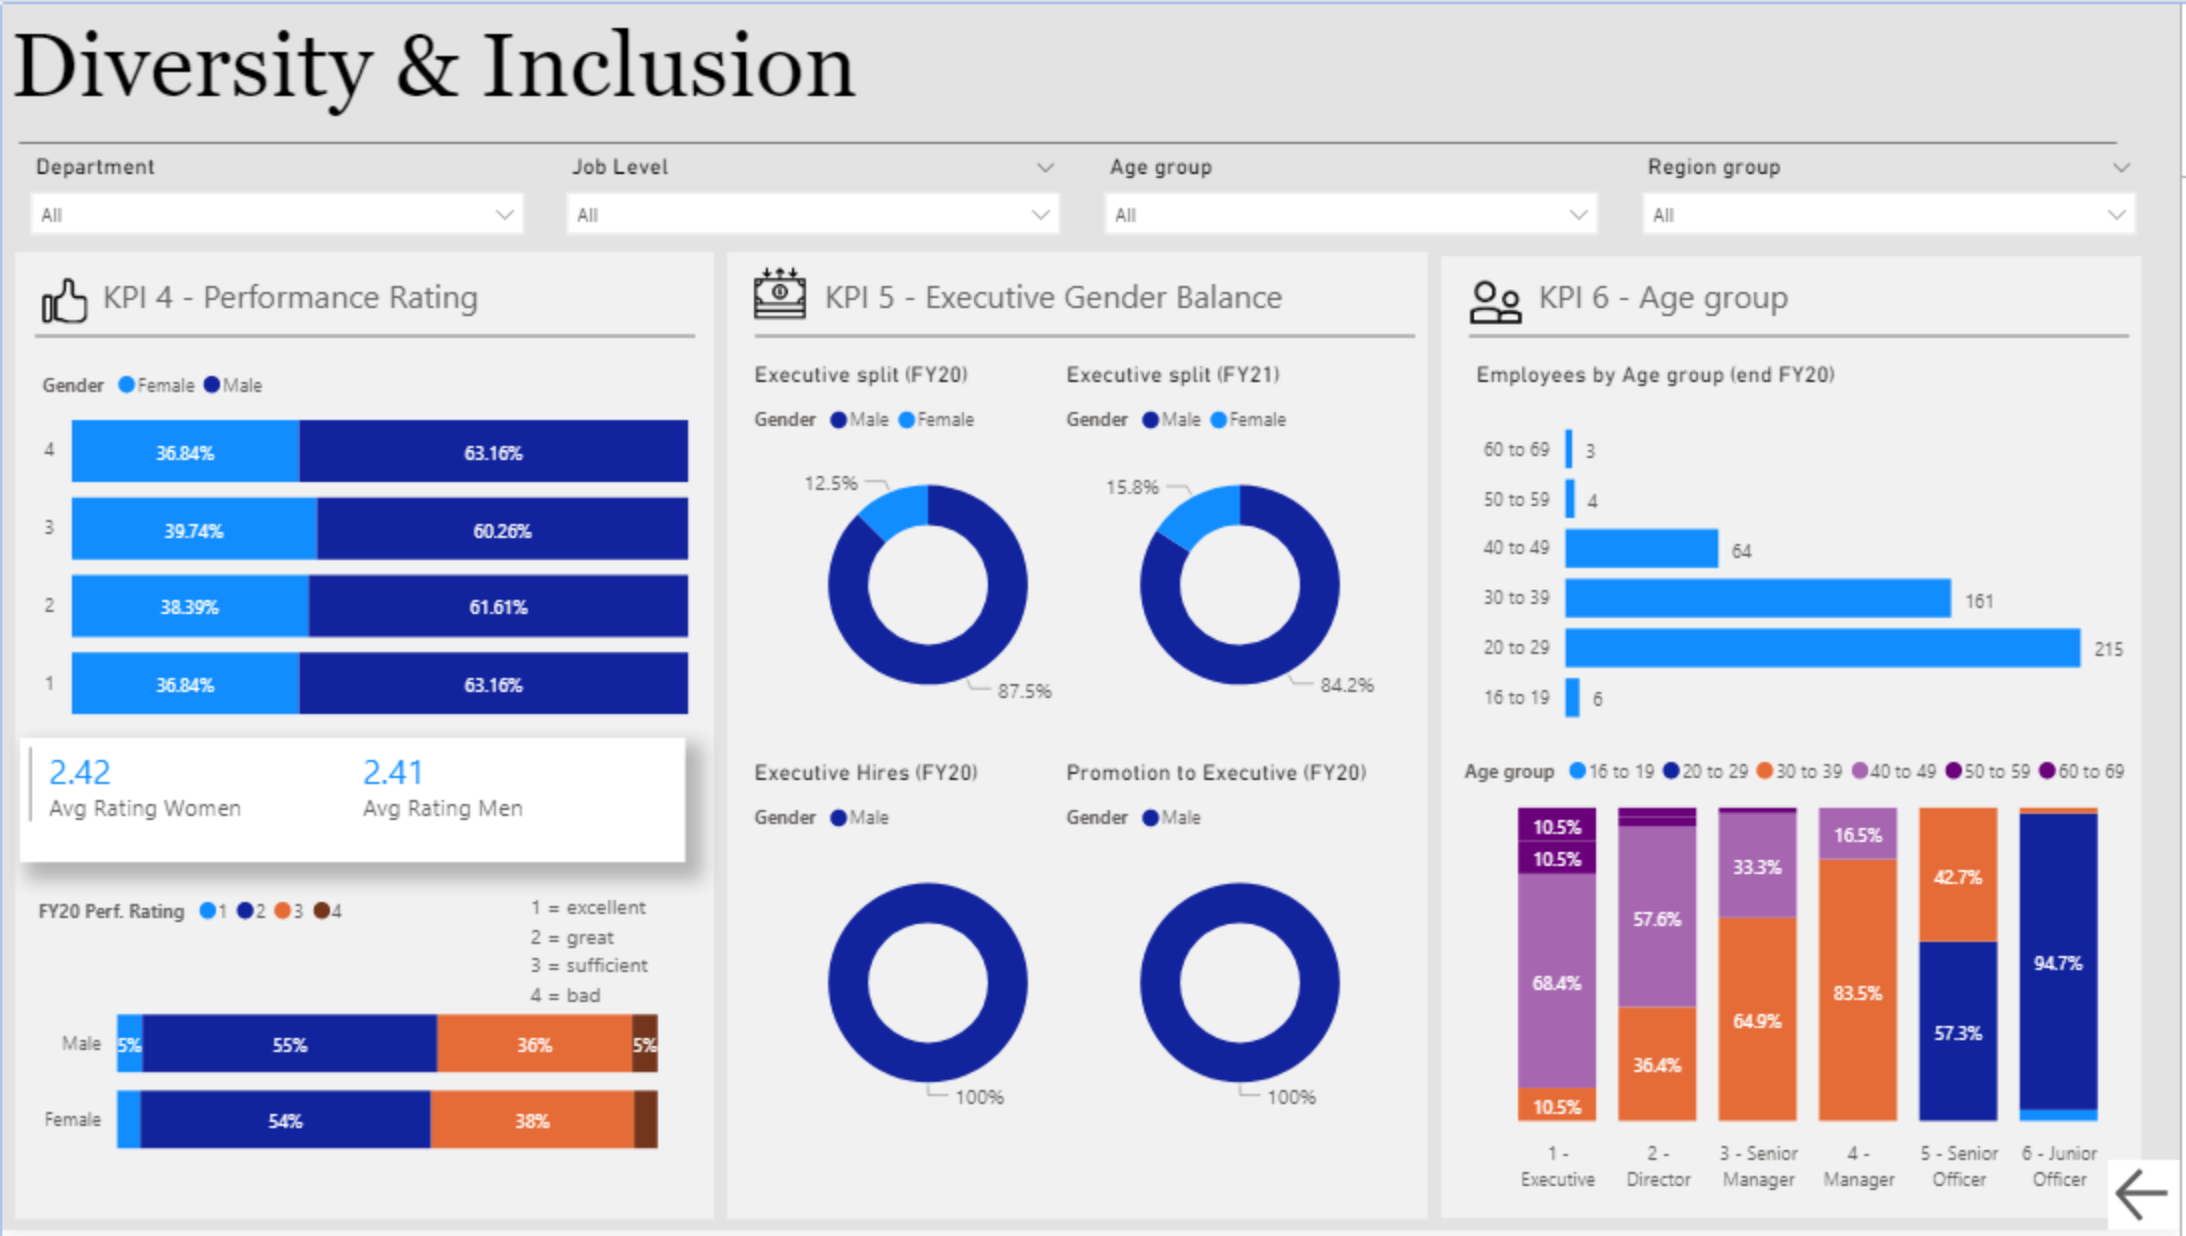

What the dashboard file says about the page in this screenshot:
{"tool":"powerbi","page":{"name":"HR Manager (2/2)","canvas":[1280,720],"ordinal":1},"visuals":[{"type":"basicShape","box":[3.9,139.9,418.6,579.7],"z":0},{"type":"slicer","fields":{"Values":["HR Manager.Job Level after FY20 promotions"]},"box":[322.5,83.9,310,55.9],"z":1000},{"type":"slicer","fields":{"Values":["HR Manager.Age group"]},"box":[638.2,83.9,310,55.9],"z":2000},{"type":"textbox","box":[0,0,1141,80.1],"z":3000},{"type":"basicShape","box":[0,60.8,1253,40.5],"z":4000},{"type":"basicShape","box":[422.2,139.6,420,579.7],"z":5000},{"type":"basicShape","box":[9.5,174.9,408,39.5],"z":6000},{"type":"textbox","box":[54.6,154.4,315.4,35.7],"z":7000},{"type":"multiRowCard","fields":{"Values":["HR Manager.Avg Rating Women","HR Manager.Avg Rating Men"]},"box":[10.1,431.1,390.9,72.6],"z":8000},{"type":"hundredPercentStackedBarChart","fields":{"Series":["HR Manager.FY20 Performance Rating"],"Category":["HR Manager.Gender"],"Y":["CountNonNull(HR Manager.Employee ID)"]},"box":[16.8,513.8,374.2,205.5],"z":9000},{"type":"image","box":[854.5,413.3,6.7,35.7],"z":10000},{"type":"basicShape","box":[842.2,141.8,420,577.5],"z":13000},{"type":"image","box":[19,156.4,35.7,35.7],"z":14000},{"type":"slicer","fields":{"Values":["HR Manager.Last Department in FY20"]},"box":[6.8,83.9,310,55.9],"z":15000},{"type":"slicer","fields":{"Values":["HR Manager.Broad region group: nationality 1"]},"box":[954,83.9,310,55.9],"z":16000},{"type":"textbox","box":[477.9,154.4,315.4,35.7],"z":17000},{"type":"basicShape","box":[432.8,174.9,408,39.5],"z":18000},{"type":"textbox","box":[897.8,154.4,315.4,35.7],"z":19000},{"type":"basicShape","box":[852.7,174.9,408,39.5],"z":20000},{"type":"hundredPercentStackedBarChart","fields":{"Category":["HR Manager.FY20 Performance Rating"],"Series":["HR Manager.Gender"],"Y":["Count(HR Manager.Employee ID)"]},"box":[19,204.4,389.8,225.6],"z":21000},{"type":"textbox","box":[306,516,100.5,81.5],"z":22000},{"type":"donutChart","title":"Executive split (FY21)","fields":{"Category":["HR Manager.Gender"],"Y":["CountNonNull(HR Manager.Employee ID)"]},"box":[621.1,209.9,214.5,220],"z":23000},{"type":"donutChart","title":"Executive split (FY20)","fields":{"Category":["HR Manager.Gender"],"Y":["CountNonNull(HR Manager.Employee ID)"]},"box":[436.8,209.9,214.5,220],"z":24000},{"type":"donutChart","title":"Executive Hires (FY20)","fields":{"Category":["HR Manager.Gender"],"Y":["CountNonNull(HR Manager.Employee ID)"]},"box":[436.7,444.7,214.5,220],"z":25000},{"type":"donutChart","title":"Promotion to Executive (FY20)","fields":{"Category":["HR Manager.Gender"],"Y":["CountNonNull(HR Manager.Employee ID)"]},"box":[621,444.7,214.5,220],"z":26000},{"type":"image","box":[857.8,153,40.2,44.7],"z":27000},{"type":"clusteredBarChart","title":"Employees by Age group (end FY20)","fields":{"Category":["HR Manager.Age group"],"Y":["CountNonNull(HR Manager.Employee ID)"]},"box":[861.2,210,392,225.6],"z":28000},{"type":"hundredPercentStackedColumnChart","fields":{"Category":["HR Manager.Job Level after FY21 promotions"],"Series":["HR Manager.Age group"],"Y":["CountNonNull(HR Manager.Employee ID)"]},"box":[854.5,431.1,406.6,273.6],"z":29000},{"type":"image","box":[436.7,147.4,40.2,44.7],"z":30000},{"type":"actionButton","box":[1237.6,679.1,42.4,40.5],"z":31000}]}

Visuals, with their boxes in screenshot pixels (x1, y1, x2, y2), scaled from the page's 1280x720 canvas onto the 2186x1236 screenshot:
basicShape: <region>7, 240, 722, 1235</region>
slicer - HR Manager.Job Level after FY20 promotions: <region>551, 144, 1080, 240</region>
slicer - HR Manager.Age group: <region>1090, 144, 1619, 240</region>
textbox: <region>0, 0, 1949, 138</region>
basicShape: <region>0, 104, 2140, 174</region>
basicShape: <region>721, 240, 1438, 1235</region>
basicShape: <region>16, 300, 713, 368</region>
textbox: <region>93, 265, 632, 326</region>
multiRowCard - HR Manager.Avg Rating Women x HR Manager.Avg Rating Men: <region>17, 740, 685, 865</region>
hundredPercentStackedBarChart - HR Manager.FY20 Performance Rating x HR Manager.Gender: <region>29, 882, 668, 1235</region>
image: <region>1459, 709, 1471, 771</region>
basicShape: <region>1438, 243, 2156, 1235</region>
image: <region>32, 268, 93, 330</region>
slicer - HR Manager.Last Department in FY20: <region>12, 144, 541, 240</region>
slicer - HR Manager.Broad region group: nationality 1: <region>1629, 144, 2159, 240</region>
textbox: <region>816, 265, 1355, 326</region>
basicShape: <region>739, 300, 1436, 368</region>
textbox: <region>1533, 265, 2072, 326</region>
basicShape: <region>1456, 300, 2153, 368</region>
hundredPercentStackedBarChart - HR Manager.FY20 Performance Rating x HR Manager.Gender: <region>32, 351, 698, 738</region>
textbox: <region>523, 886, 694, 1026</region>
"Executive split (FY21)" donutChart: <region>1061, 360, 1427, 738</region>
"Executive split (FY20)" donutChart: <region>746, 360, 1112, 738</region>
"Executive Hires (FY20)" donutChart: <region>746, 763, 1112, 1141</region>
"Promotion to Executive (FY20)" donutChart: <region>1061, 763, 1427, 1141</region>
image: <region>1465, 263, 1534, 339</region>
"Employees by Age group (end FY20)" clusteredBarChart: <region>1471, 360, 2140, 748</region>
hundredPercentStackedColumnChart - HR Manager.Job Level after FY21 promotions x HR Manager.Age group: <region>1459, 740, 2154, 1210</region>
image: <region>746, 253, 814, 330</region>
actionButton: <region>2114, 1166, 2185, 1235</region>
